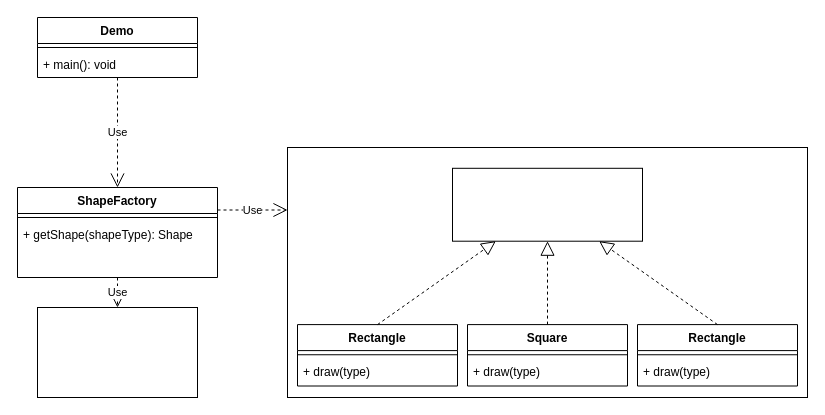
Some shapes in this 825 by 415 pixel diagram are drawn without their labels. The centre of each missing label's shape, as x and y in pixels:
<<enumeration>> ShapeType triangle square circle: pixel 117 352
<<Interface>> Shape + draw(): pixel 547 204
